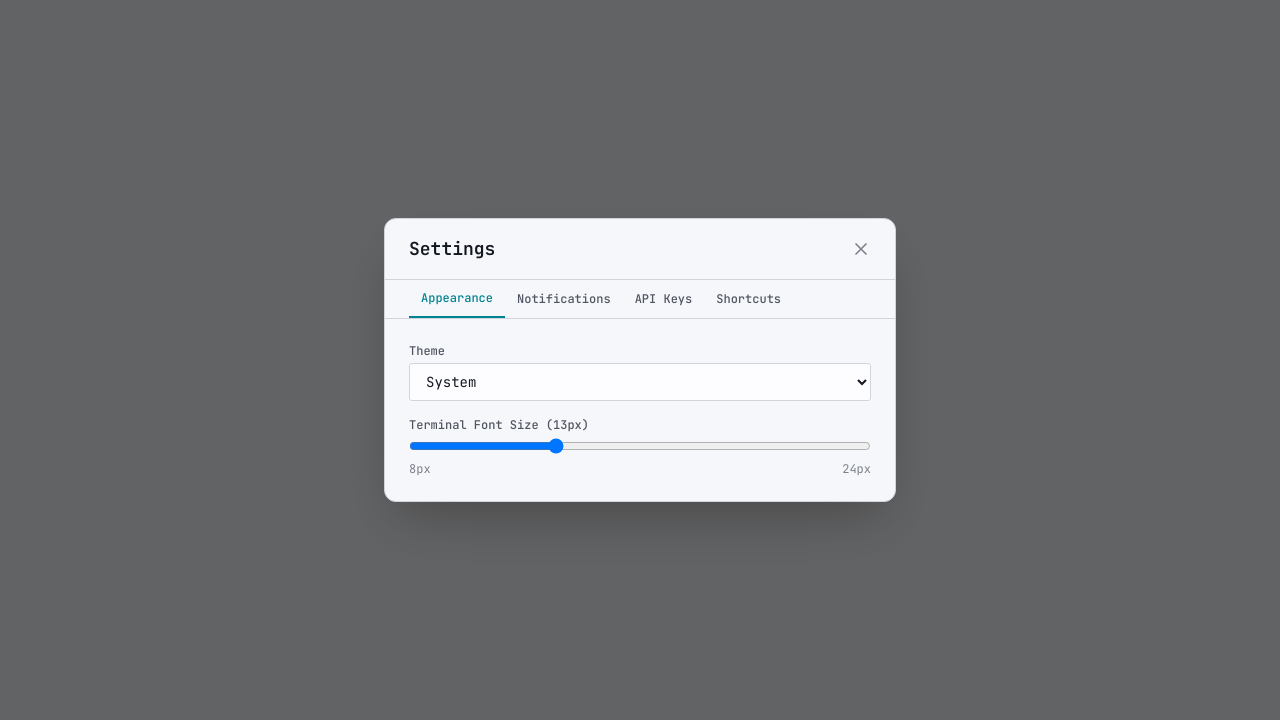
Test case: SettingsModal › switches to API Keys tab
Click the button "API Keys" at [663, 299], box [623,280,704,318]
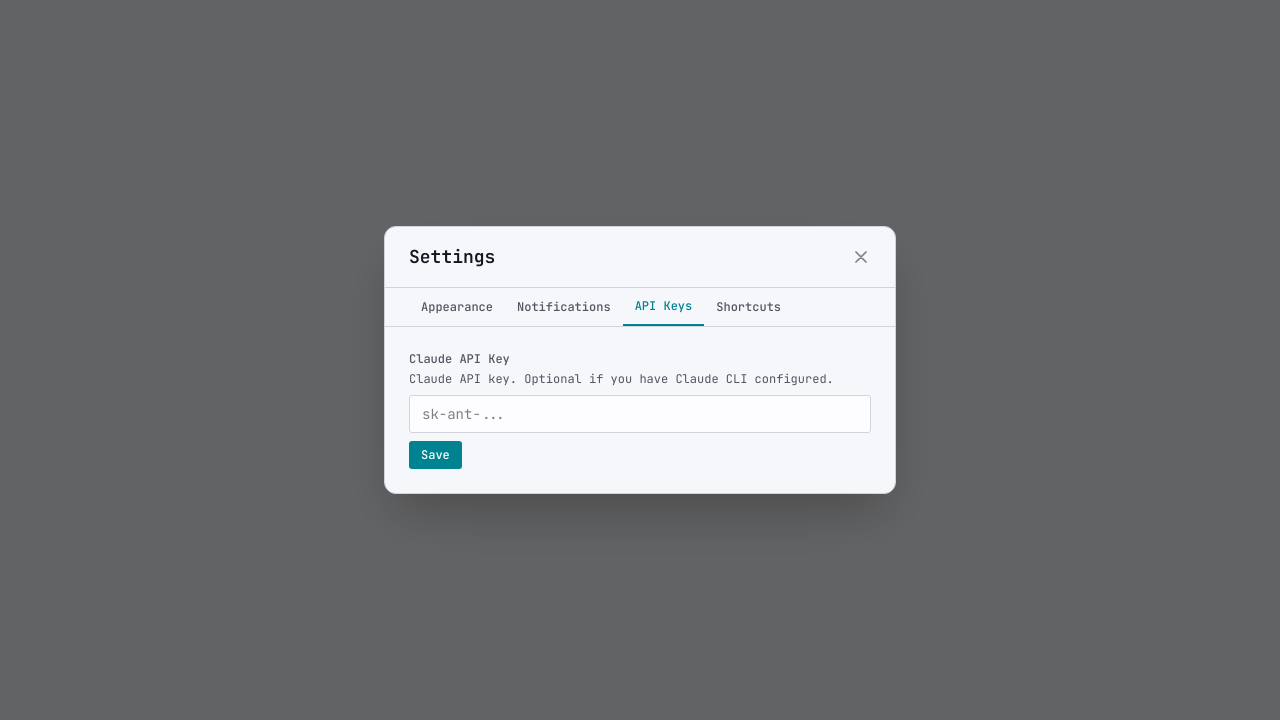
expect the text "Claude API Key" is shown: met, box [409,351,510,367]
